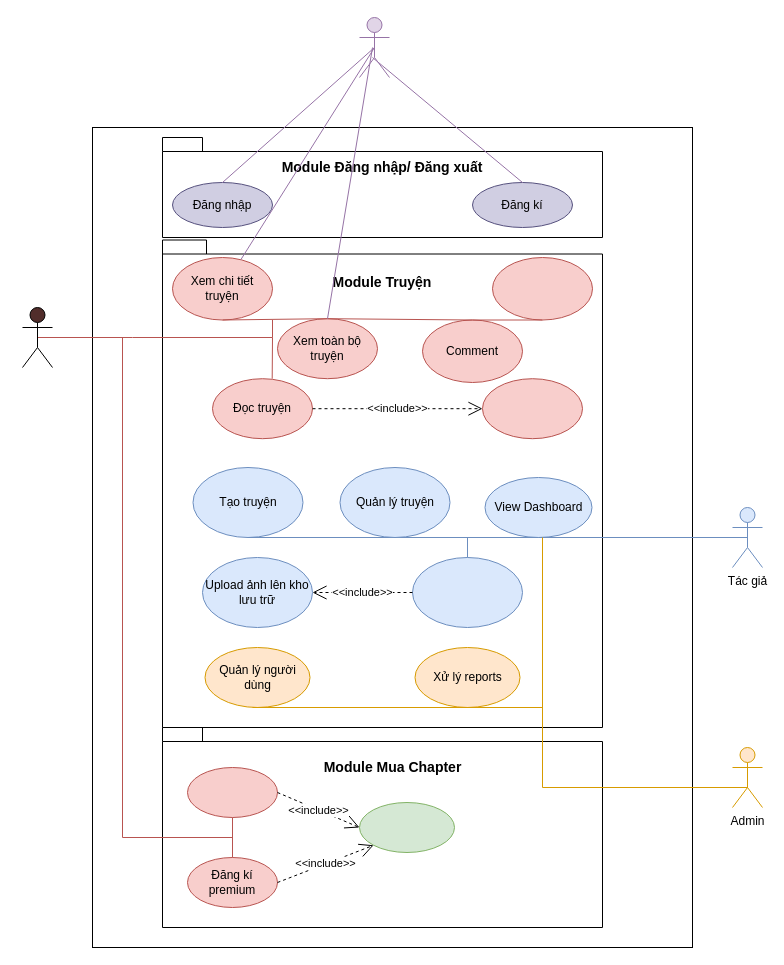
Image size: 784x965. Some labels were removed from this diagram. Each missing label, with the centre of its shape:
"Check Access" goes at (532,408).
"Gửi yêu cầu thanh toán" goes at (406,827).
"Mua chapter" goes at (232,792).
"Người dùng khách" goes at (374,47).
"Upload Chapter" goes at (467,592).
"Đánh giá truyện" goes at (542,288).
"Độc giả" goes at (37,337).
